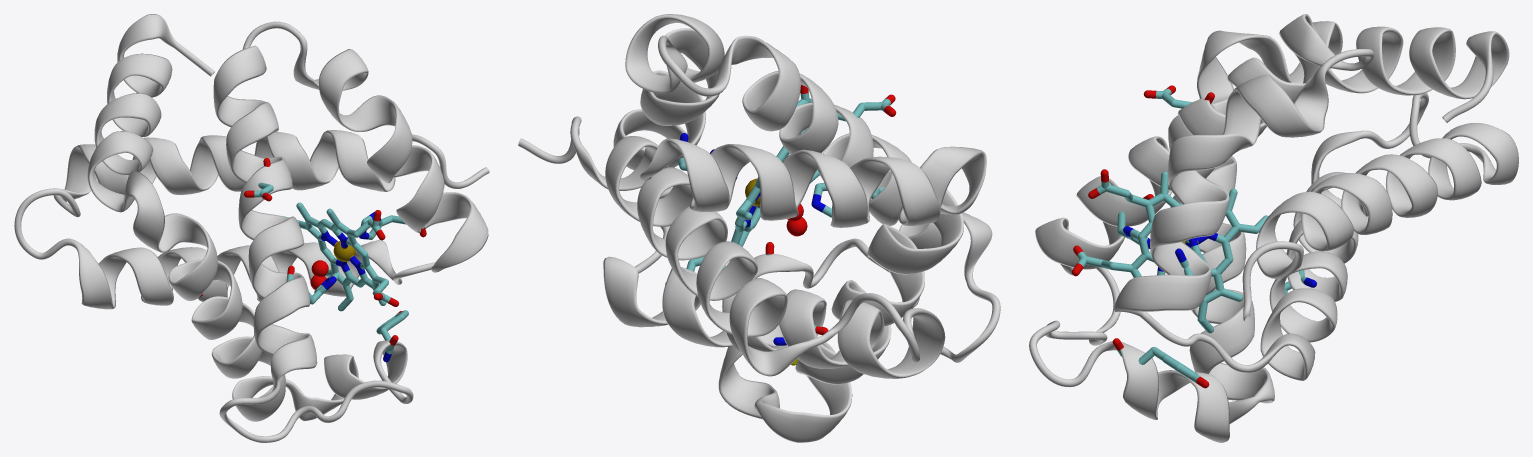
The model's file is frame17.gltf.
The picture shows the model from 3 angles, left to right: view 1: azimuth 30°, elevation 25°; view 2: azimuth 150°, elevation 25°; view 3: azimuth 270°, elevation 25°; orthographic projection. The views are drawn at different scales.
Parts seen in each view (by area): view 1: vmd_mol17_rep3, vmd_mol17_rep2, vmd_mol17_rep1; view 2: vmd_mol17_rep3, vmd_mol17_rep1, vmd_mol17_rep2; view 3: vmd_mol17_rep3, vmd_mol17_rep2, vmd_mol17_rep1.
Part boxes in pixels (x1,y1,x2,y2): vmd_mol17_rep3: (14,14,489,442); vmd_mol17_rep2: (283,202,398,311); vmd_mol17_rep1: (199,158,426,362); vmd_mol17_rep3: (518,14,1000,442); vmd_mol17_rep1: (665,94,896,365); vmd_mol17_rep2: (731,85,819,246); vmd_mol17_rep3: (1029,14,1518,442); vmd_mol17_rep2: (1071,169,1268,333); vmd_mol17_rep1: (1112,85,1316,388).
Bounding box in the file's own units: 1.41 × 1.18 × 1.29.
